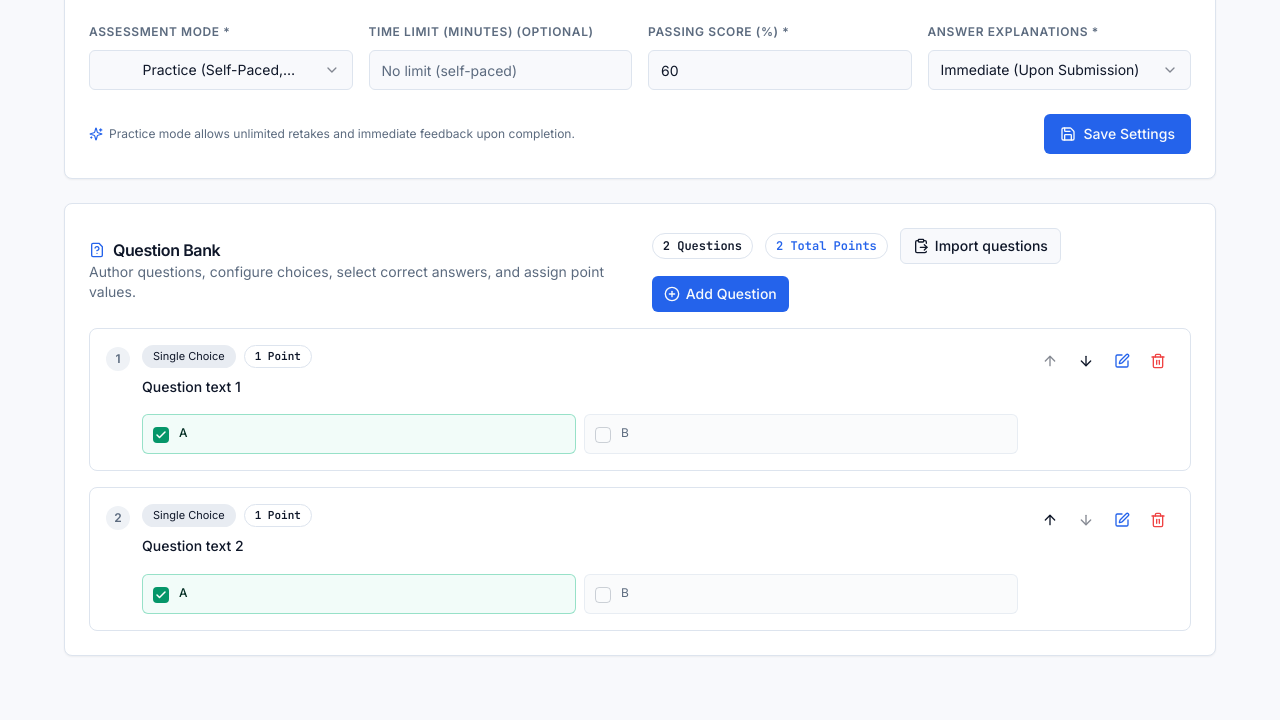
Quiz authoring: deleting a question asks first › confirming deletes exactly that question once and removes it from the list
(page scrolled)
Click the button named "Delete question 2" at (1158, 520), box x1=1142 y1=504 x2=1174 y2=536
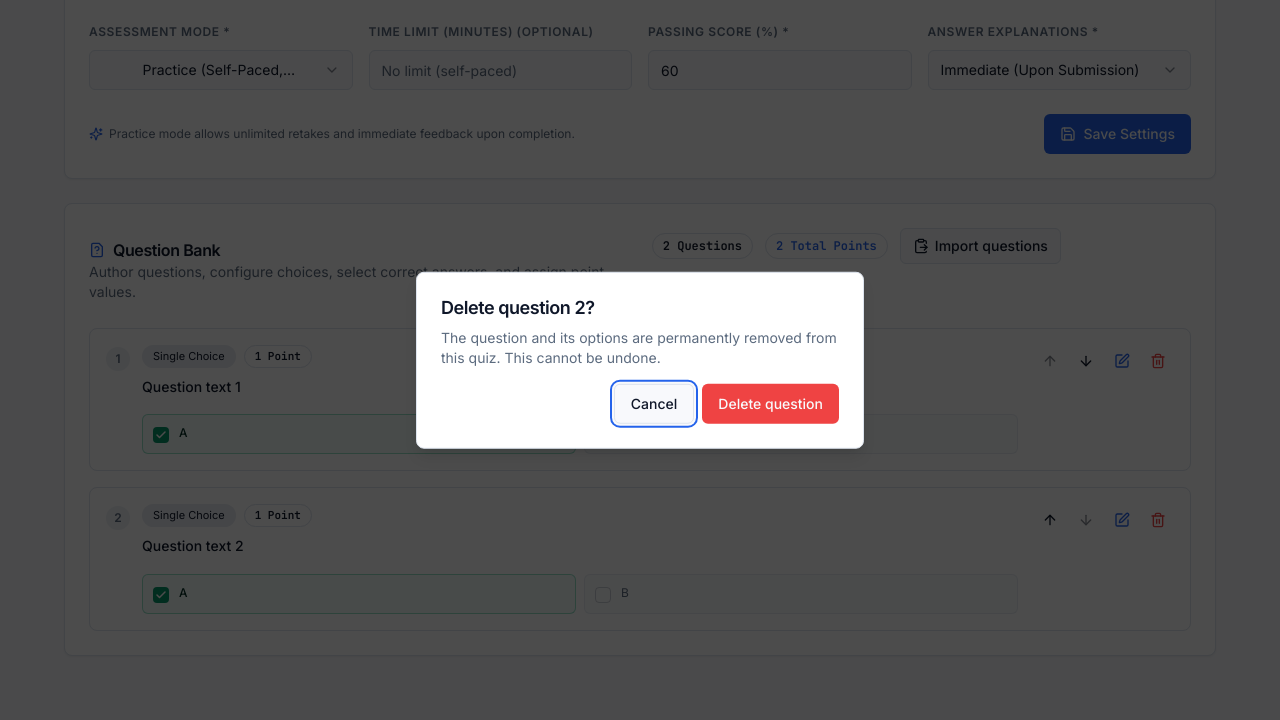
Click the button "Delete question" at (771, 403), box x1=702 y1=383 x2=839 y2=423
(page scrolled)
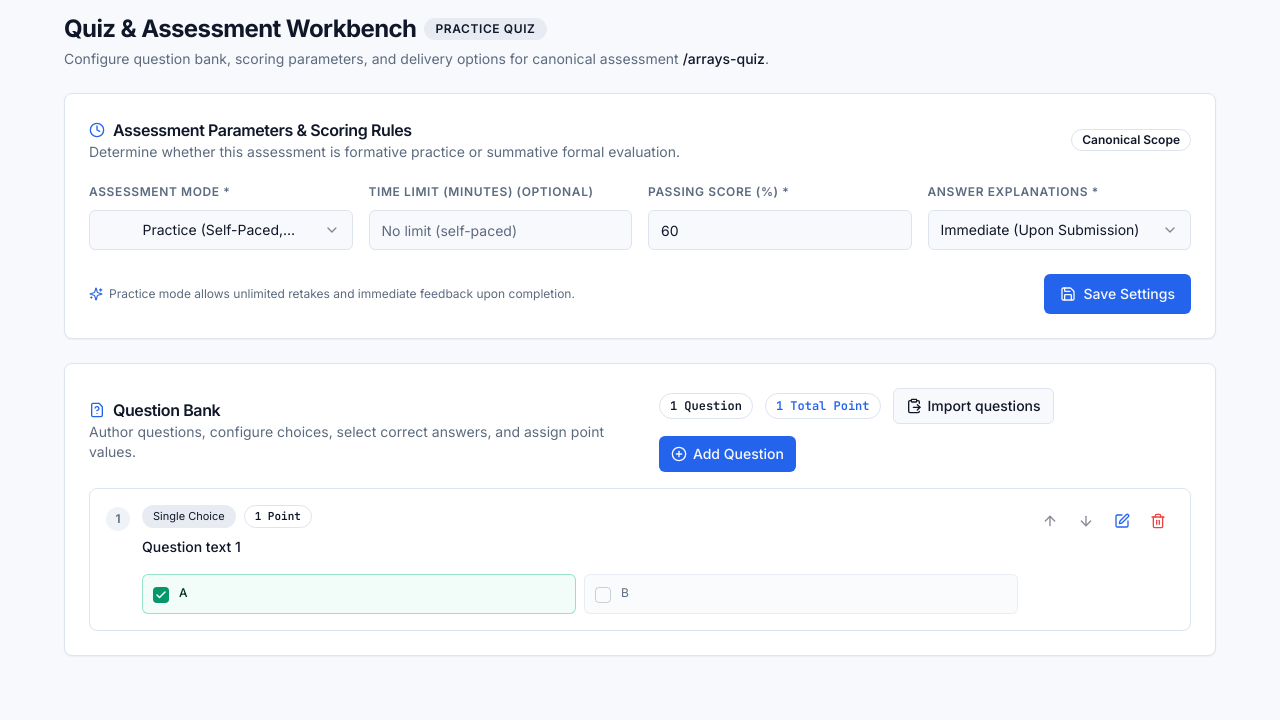
Check: the text "Question text 1" is shown, box x1=142 y1=538 x2=241 y2=554
Check: the dialog is gone
Check: the text "Question text 2" is gone
